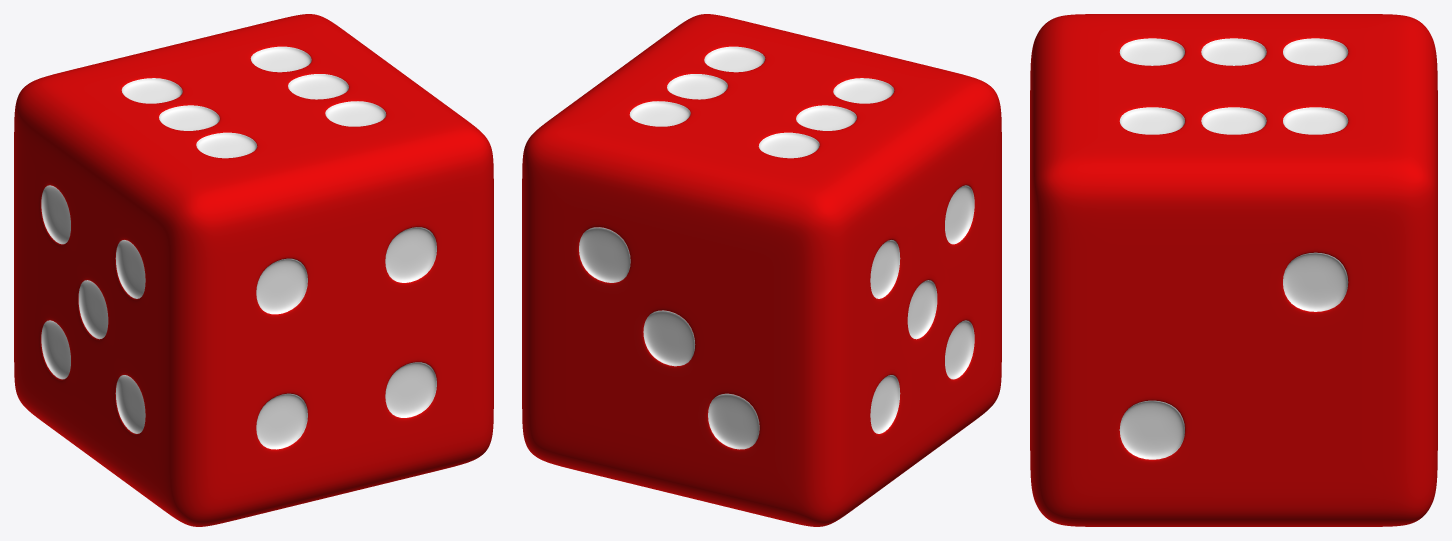
The model's file is dice3DNorm.glb.
The picture shows the model from 3 angles, left to right: view 1: azimuth 30°, elevation 25°; view 2: azimuth 150°, elevation 25°; view 3: azimuth 270°, elevation 25°; orthographic projection. The views are drawn at different scales.
Visible parts, largest first — view 1: Cube; view 2: Cube; view 3: Cube.
Boxes of the visible parts, x1,y1,x2,y2 form: Cube: (14, 14, 493, 526); Cube: (522, 14, 1001, 526); Cube: (1030, 14, 1437, 526).
Size of the model in its own units: 2 by 2 by 2.
